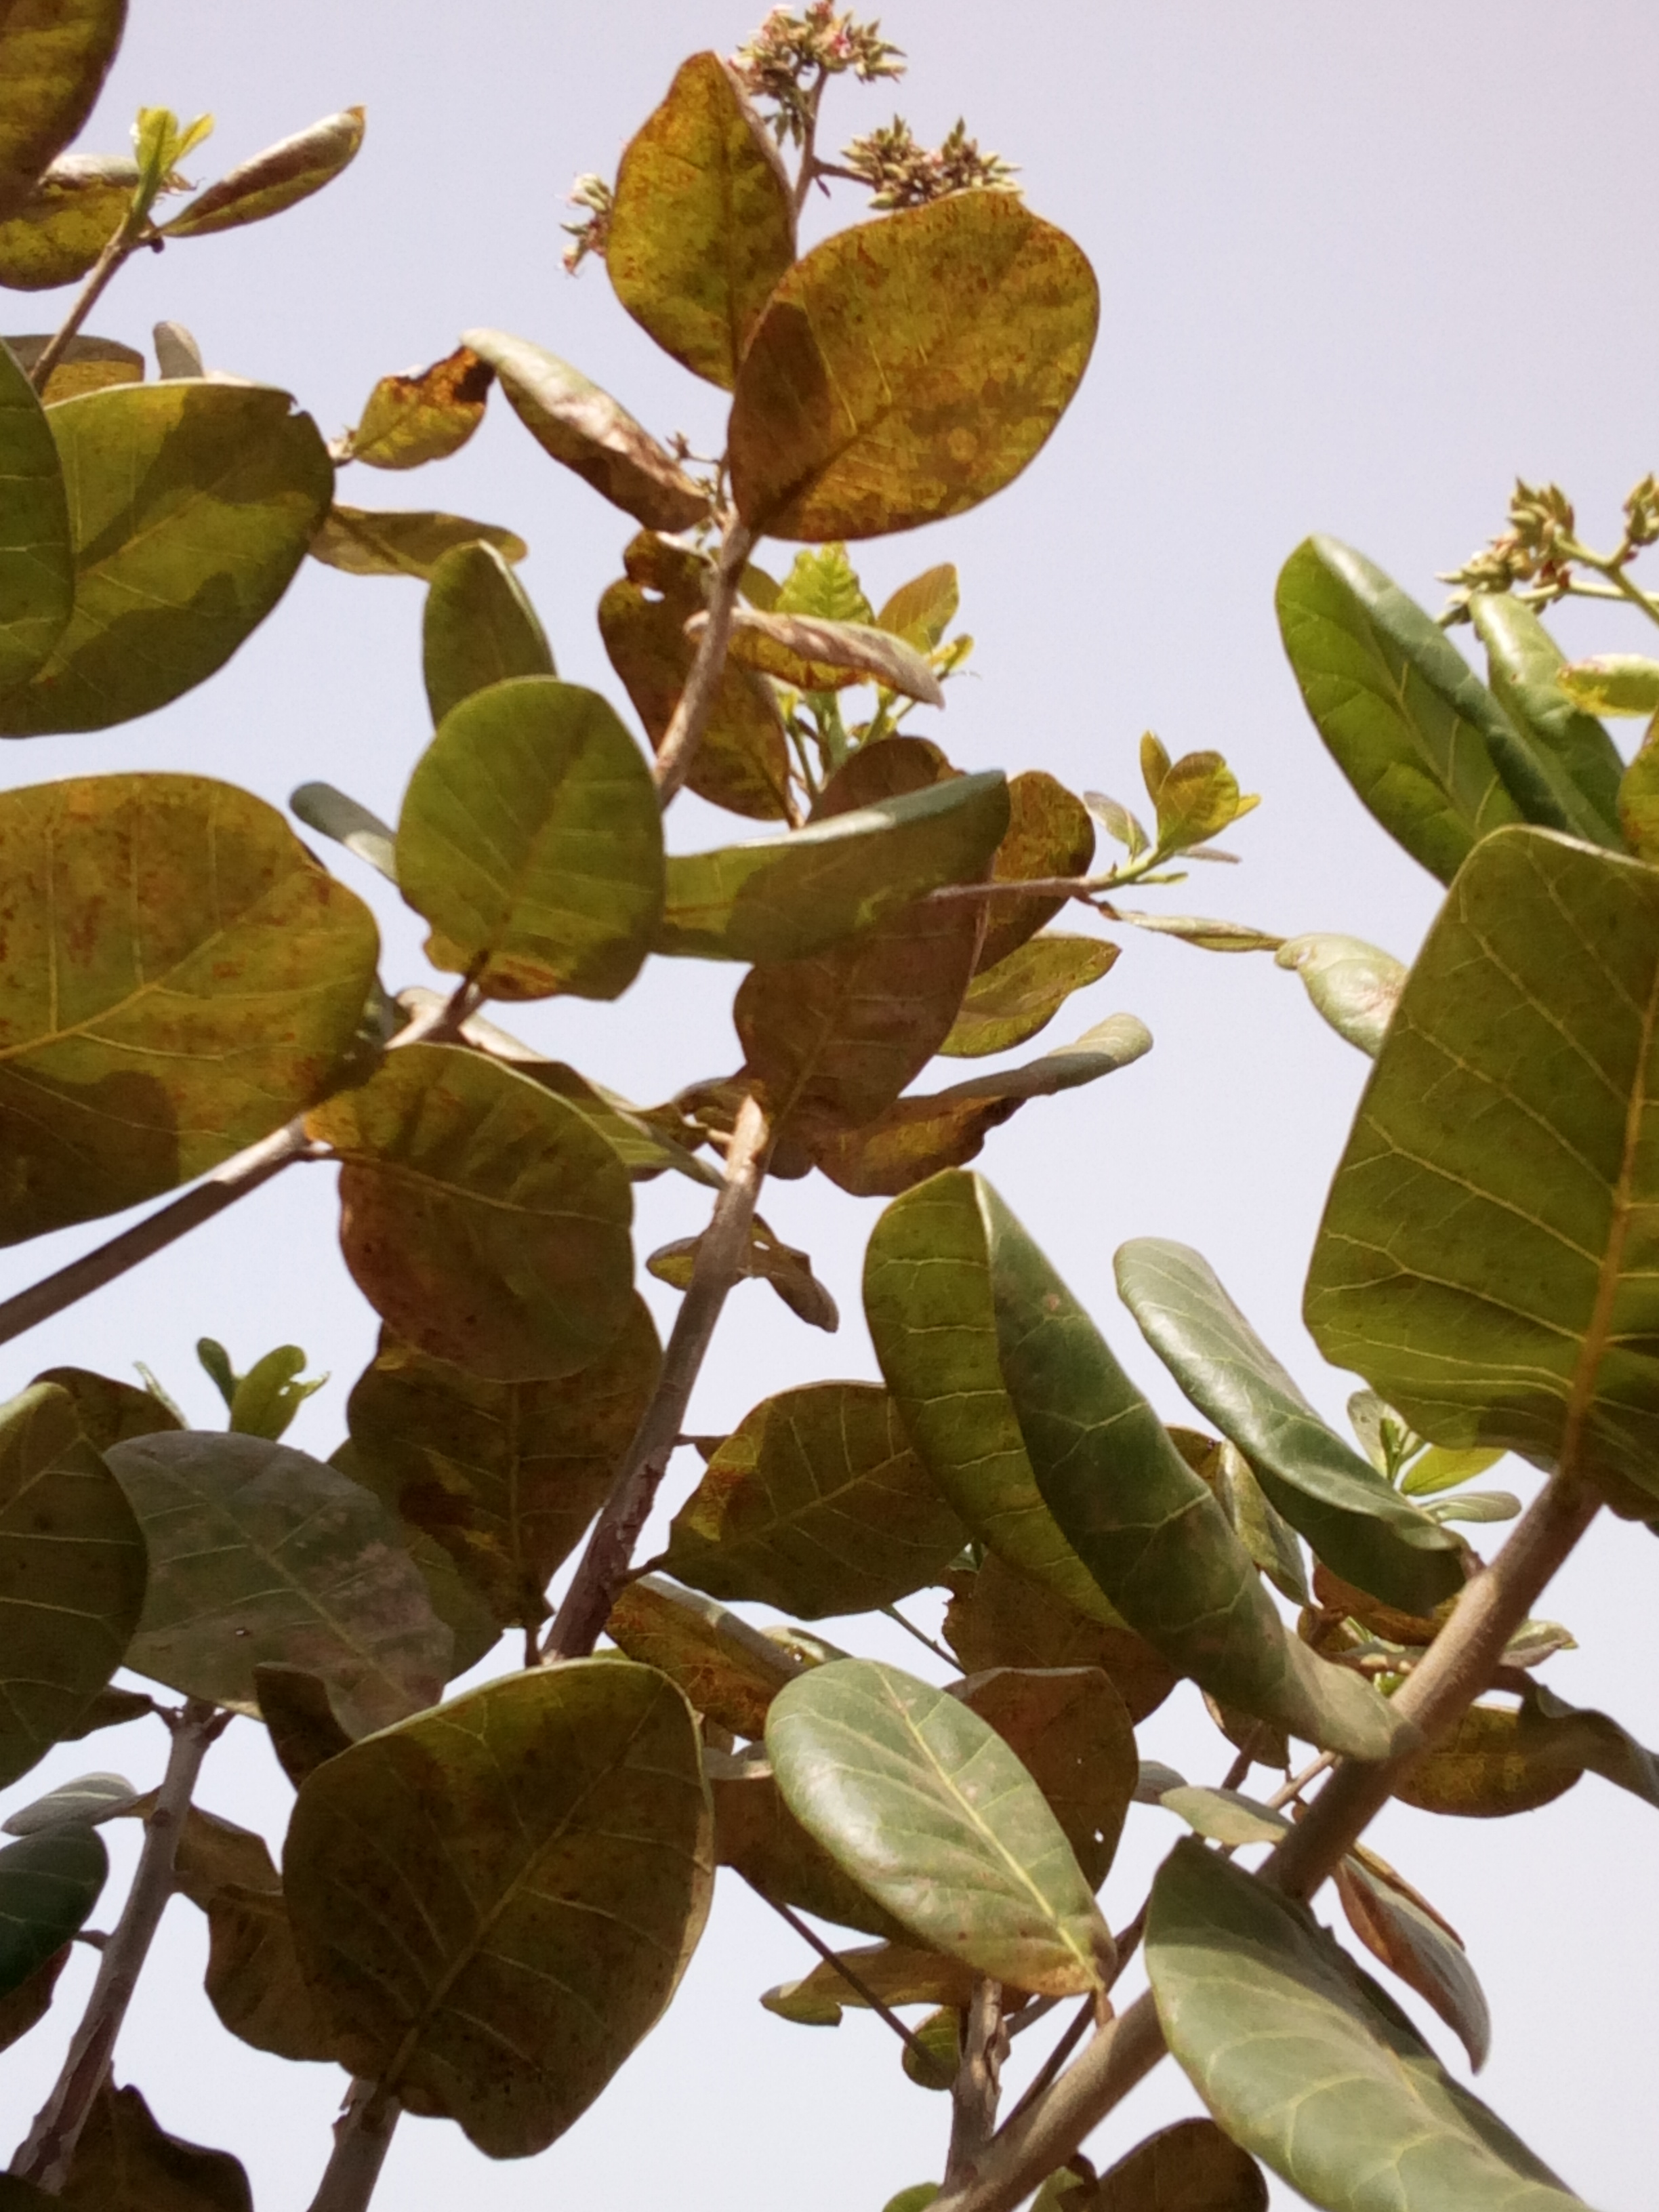Anthracnose: (274, 1658, 728, 2153), (7, 765, 403, 1184), (739, 178, 1121, 533), (739, 719, 1012, 1174)
